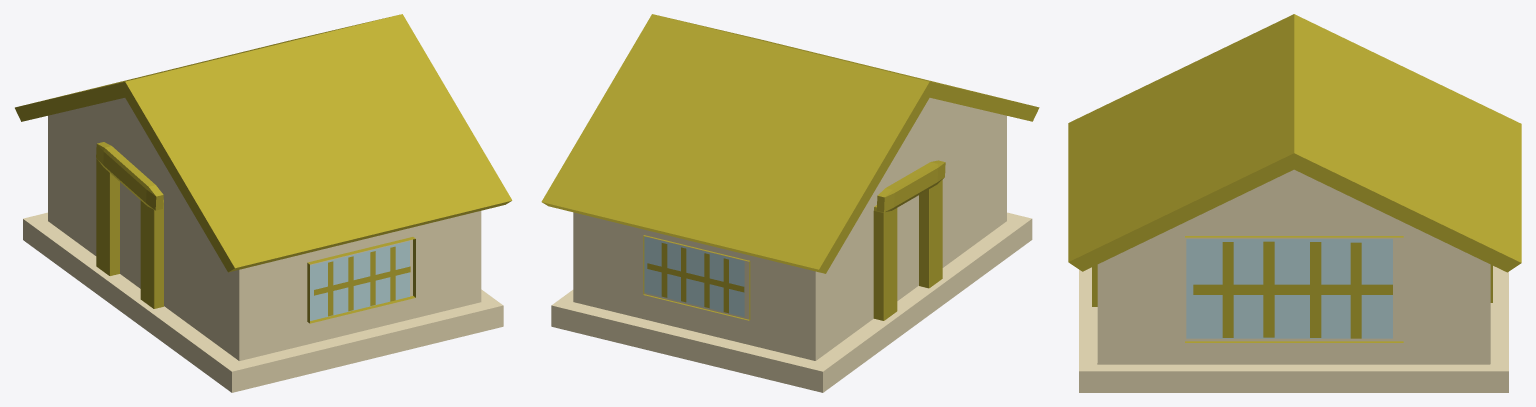
File: hus_Agneta.gltf
The picture shows the model from 3 angles, left to right: view 1: azimuth 30°, elevation 25°; view 2: azimuth 150°, elevation 25°; view 3: azimuth 270°, elevation 25°; orthographic projection. The views are drawn at different scales.
Visible parts, largest first — view 1: tak.017, hus.017, dorr, windowag.001, windowram.003; view 2: tak.017, hus.017, dorr, windowAg, windowram.004; view 3: tak.017, hus.017, windowag, winsowram.
Part boxes in pixels (box(x1,y1,x2,y2)): tak.017: box(15, 14, 512, 272); hus.017: box(23, 98, 503, 392); dorr: box(96, 142, 163, 308); windowag.001: box(310, 241, 409, 320); windowram.003: box(307, 237, 415, 323); tak.017: box(541, 14, 1039, 273); hus.017: box(551, 98, 1032, 392); dorr: box(873, 160, 945, 320); windowAg: box(644, 237, 744, 316); windowram.004: box(643, 235, 750, 320); tak.017: box(1068, 14, 1521, 272); hus.017: box(1079, 169, 1508, 392); windowag: box(1186, 239, 1392, 338); winsowram: box(1185, 236, 1403, 342).
Bounding box in the file's own units: 0.1855 × 0.1532 × 0.2554.
